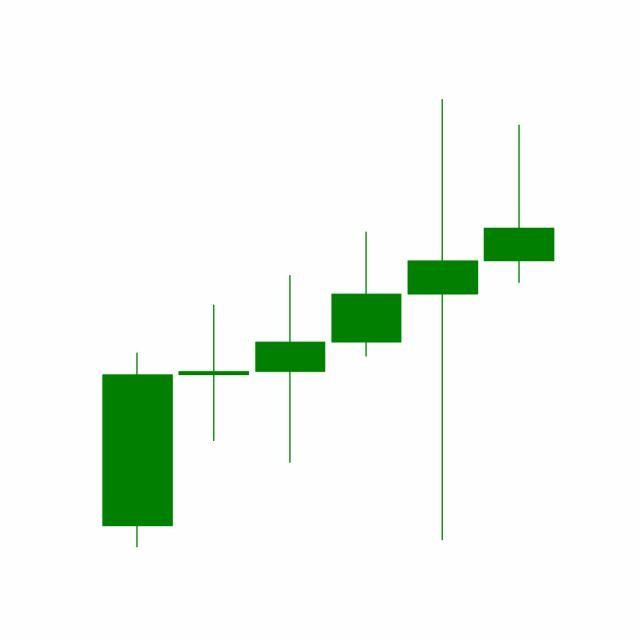Spinning Top: (404, 95, 482, 546)
